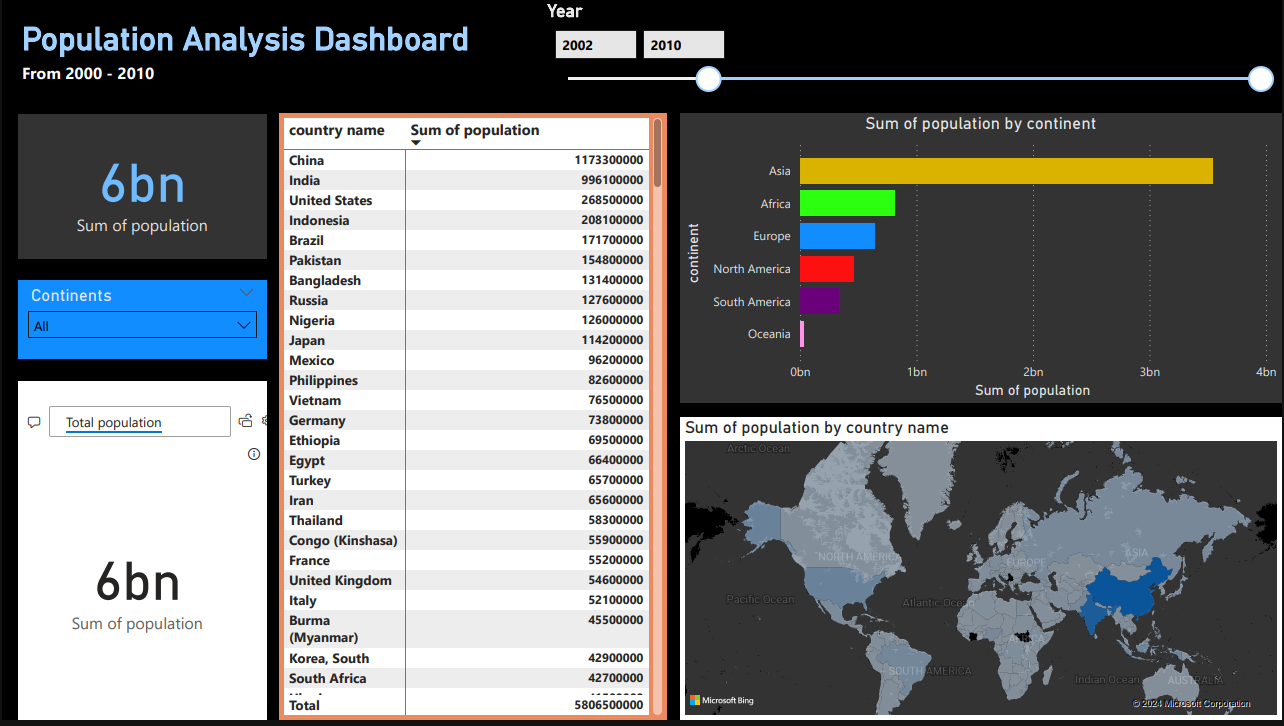

The dashboard page shown, as its layout file describes it:
{"tool":"powerbi","page":{"name":"Page 1","canvas":[1280,720],"ordinal":0},"visuals":[{"type":"textbox","title":"Population Analysis Dashboard","box":[0,0,1279.4,125.4],"z":0},{"type":"slicer","title":"Year","fields":{"Values":["population.year"]},"box":[540,0,740,113.3],"z":1000},{"type":"filledMap","fields":{"Category":["population.country name"]},"box":[678.3,416.7,601.7,303.3],"z":2000},{"type":"clusteredBarChart","fields":{"Category":["population.continent"],"Y":["Sum(population.population)"]},"box":[678.3,113.3,601.7,290],"z":3000},{"type":"pivotTable","fields":{"Rows":["population.country name"],"Values":["Sum(population.population)"]},"box":[276.7,113.3,388.3,606.7],"z":4000},{"type":"card","fields":{"Values":["Sum(population.population)"]},"box":[16.3,113.9,248.9,144.8],"z":5000},{"type":"slicer","fields":{"Values":["population.continent"]},"box":[16.3,279.8,248.9,79.7],"z":6000},{"type":"qnaVisual","box":[16.3,380.6,248.9,339.9],"z":6001}]}

Visuals, with their boxes in screenshot pixels (x1, y1, x2, y2), scaled from the page's 1280x720 canvas onto the 1284x726 screenshot:
"Population Analysis Dashboard" textbox: l=0, t=0, r=1283, b=126
"Year" slicer: l=542, t=0, r=1283, b=114
filledMap - population.country name: l=680, t=420, r=1283, b=725
clusteredBarChart - population.continent x Sum(population.population): l=680, t=114, r=1283, b=407
pivotTable - population.country name x Sum(population.population): l=278, t=114, r=667, b=725
card - Sum(population.population): l=16, t=115, r=266, b=261
slicer - population.continent: l=16, t=282, r=266, b=362
qnaVisual: l=16, t=384, r=266, b=725
